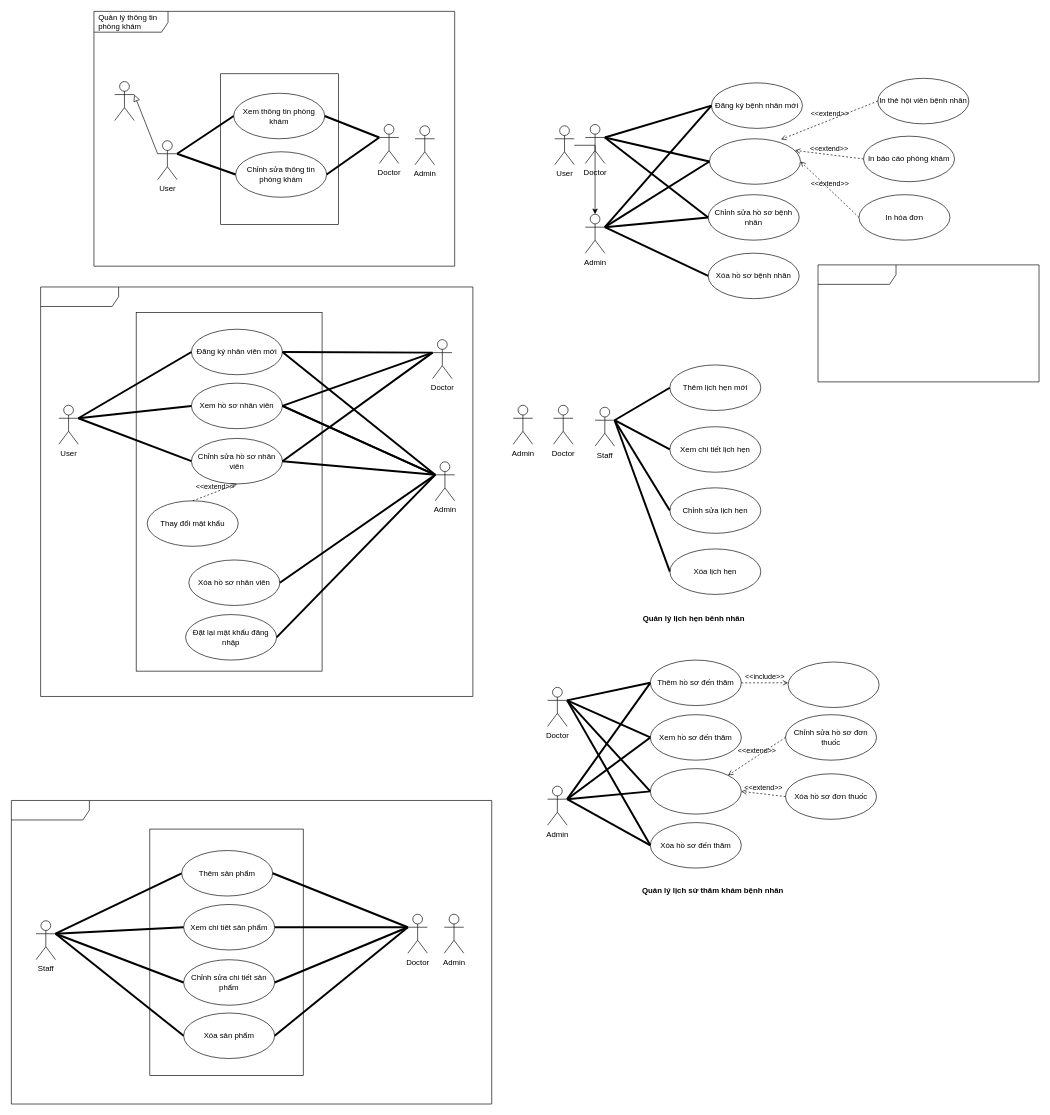
This 1050x1115 diagram has some shape labels left out. The shapes that lost their labels are listed below. From the top down, each one's centre as x and y in pixels, then its label:
(x=124, y=101): Guest
(x=754, y=161): Xem hồ sơ bệnh nhân
(x=928, y=323): Quản lý hồ sơ bệnh nhân
(x=256, y=491): Quản lý hồ sơ nhân viên
(x=833, y=684): Thêm hồ sơ đơn thuốc
(x=695, y=791): Chỉnh sửa hồ sơ đến thăm
(x=251, y=952): Quản lý hàng tồn kho
